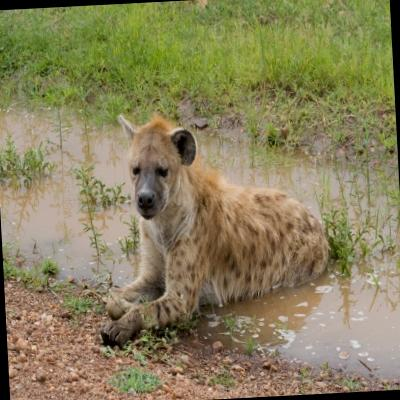hyenas: (49, 83, 349, 374)
